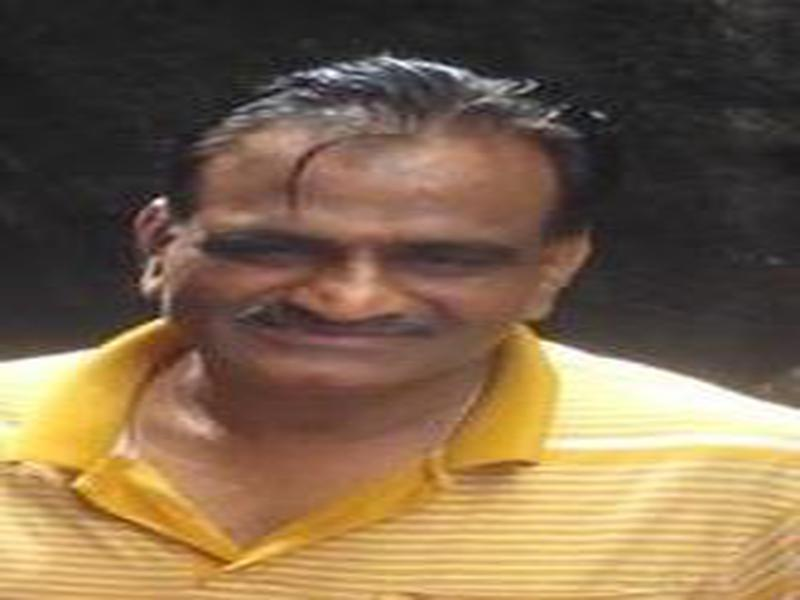without_mask: (172, 133, 549, 401)
